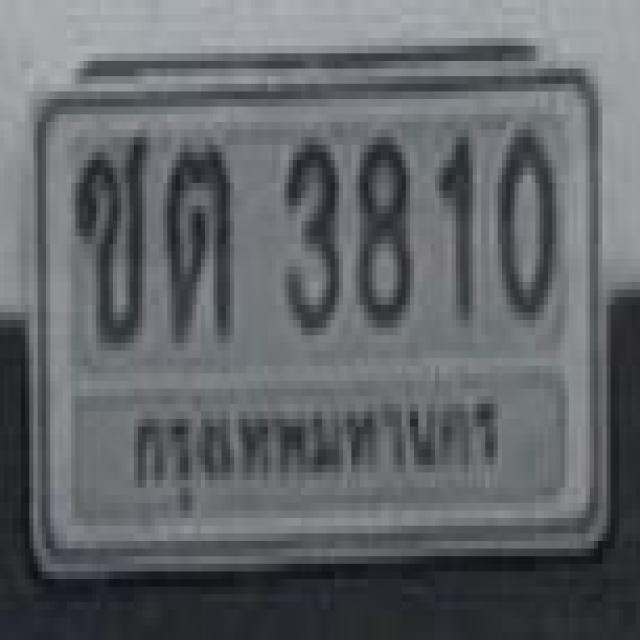license_plate: (27, 74, 615, 562)
